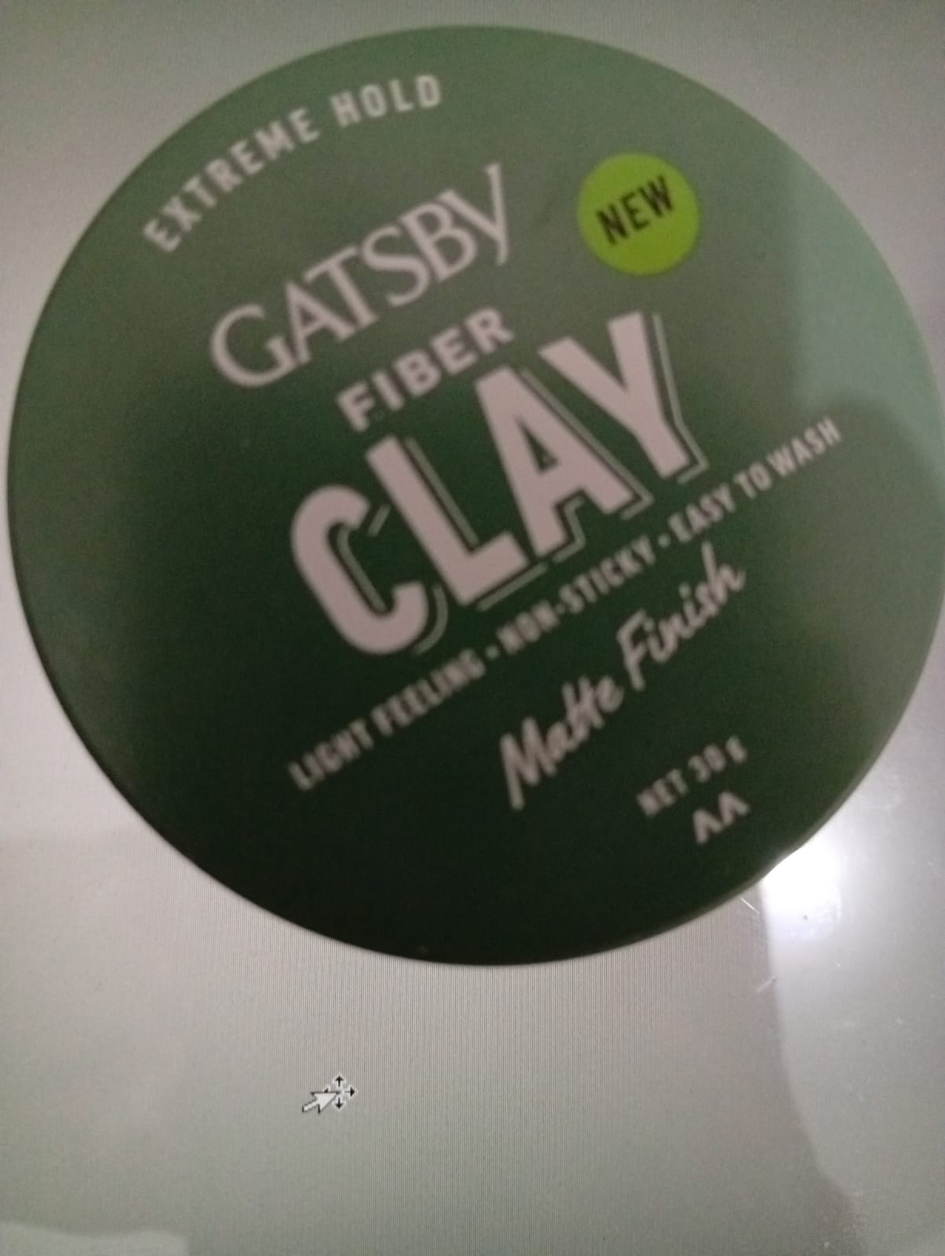Minyak_Rambut: (3, 0, 945, 1005)
